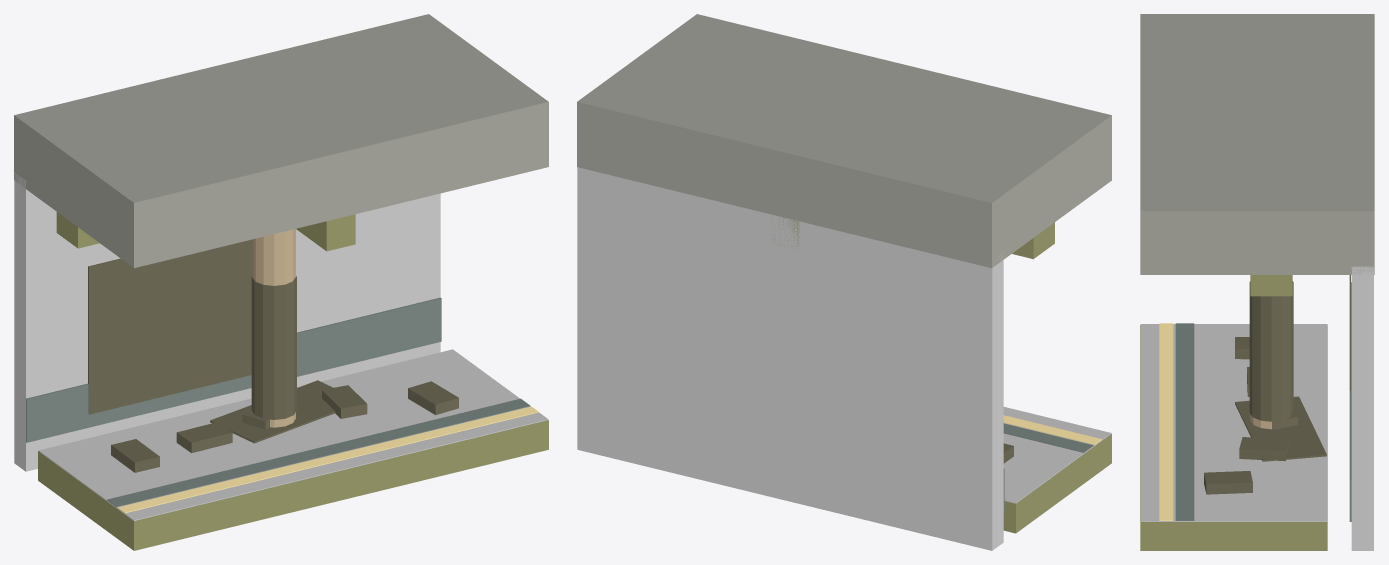
Rendered from SM_AndenLosa_Lateral_v4_Quemada_LOD0.fbx.
3 views of the same model, side by side, from view 1: azimuth 30°, elevation 25°; view 2: azimuth 150°, elevation 25°; view 3: azimuth 270°, elevation 25° (orthographic). The views are drawn at different scales.
Parts seen in each view (by area): view 1: SM_anden_losa_v9_LOD0, Losa; view 2: SM_anden_losa_v9_LOD0, Losa; view 3: Losa, SM_anden_losa_v9_LOD0.
Boxes of the visible parts, <box> form: SM_anden_losa_v9_LOD0: <box>14,172,548,550</box>; Losa: <box>14,14,548,268</box>; SM_anden_losa_v9_LOD0: <box>577,167,1111,550</box>; Losa: <box>577,14,1111,268</box>; Losa: <box>1140,14,1374,296</box>; SM_anden_losa_v9_LOD0: <box>1140,266,1373,550</box>.
Size of the model in its own units: 9.98 by 8 by 5.
